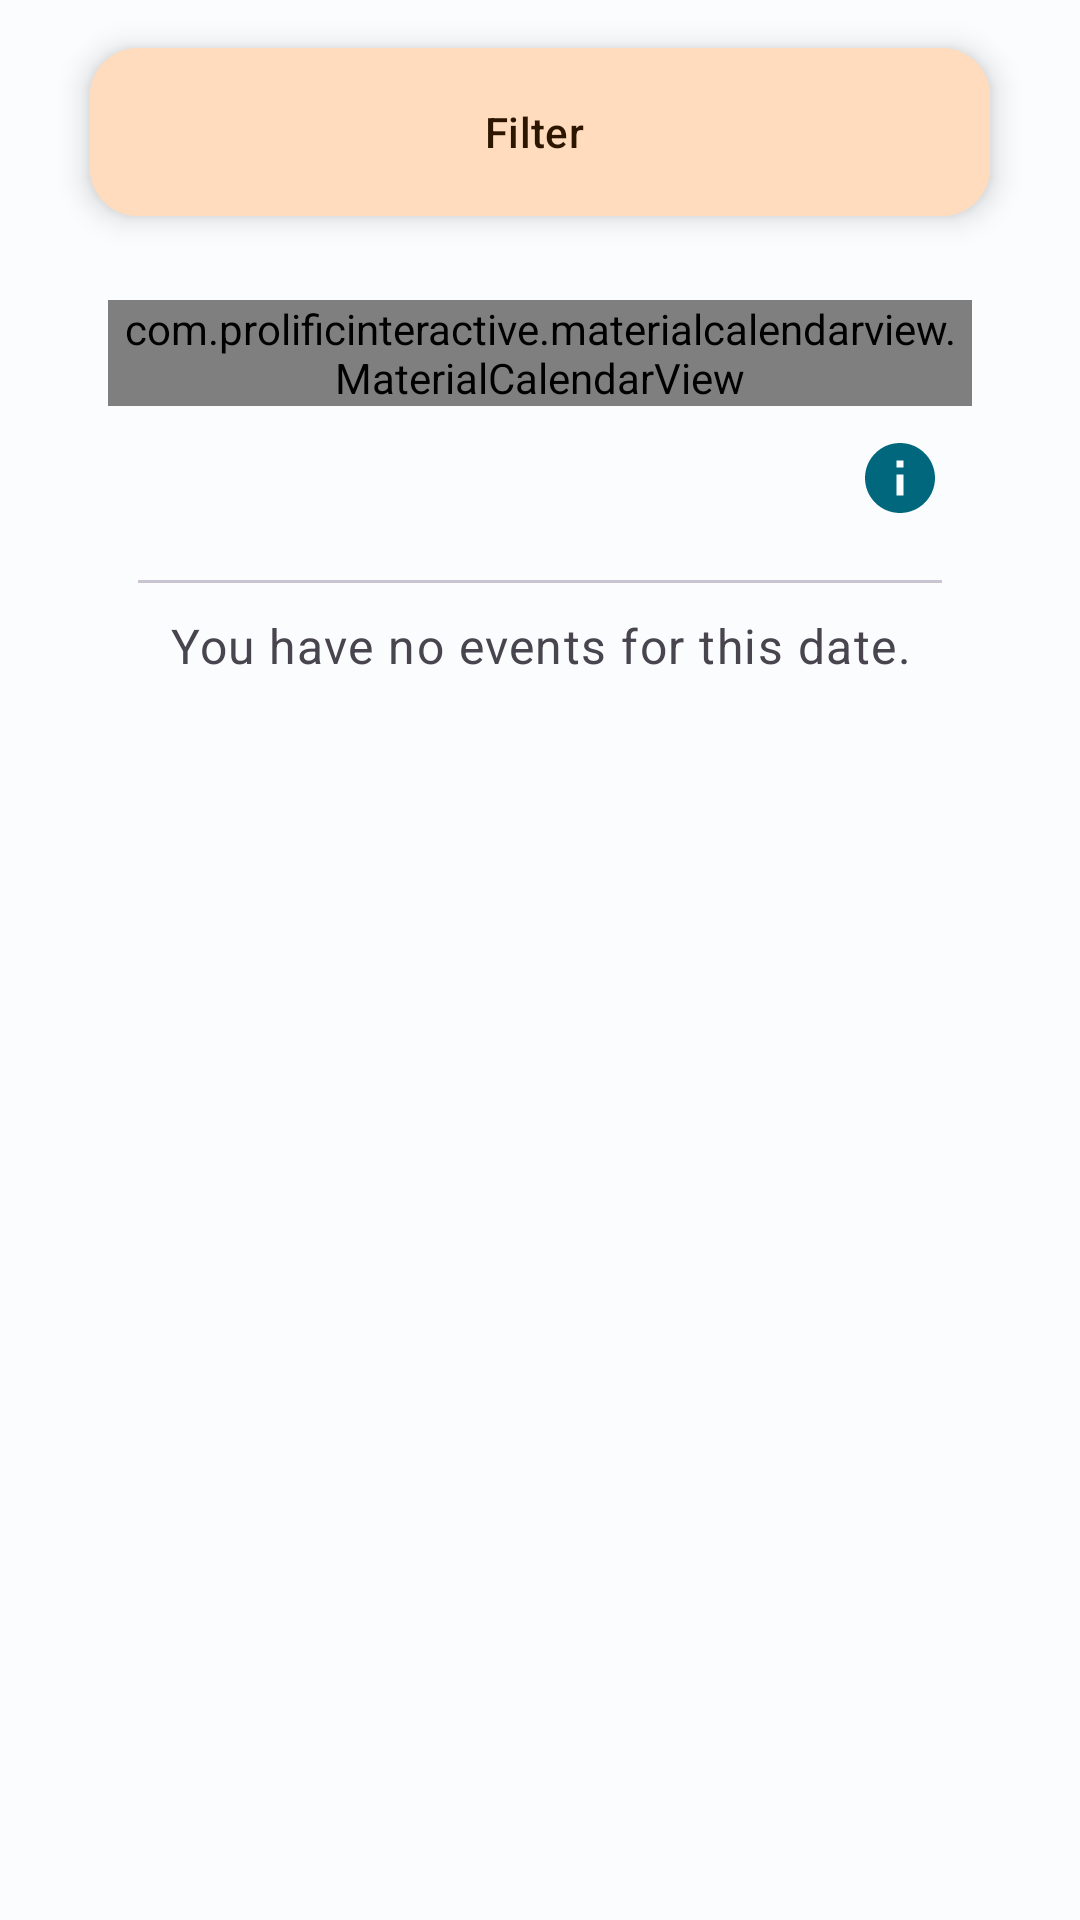

Where to tap for icons on this 1080px x 1920px app screen, as [x,y]:
Calendar legend: [900,478]
